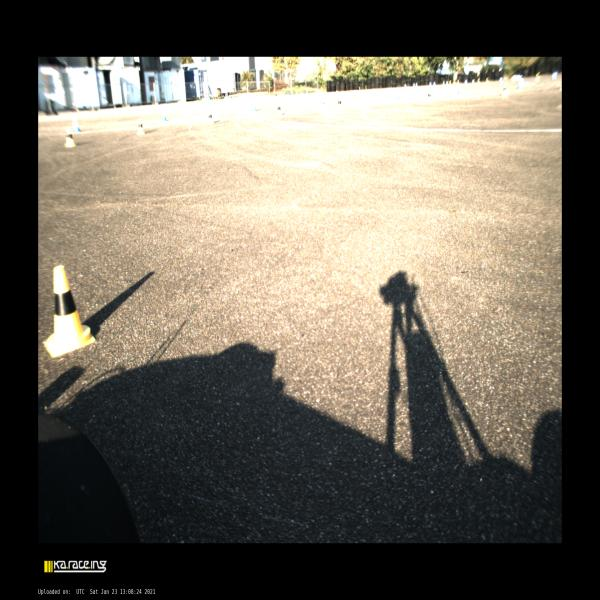blue_cone: (72, 118, 80, 132), (516, 78, 523, 88), (319, 94, 325, 104), (252, 102, 258, 111), (162, 110, 167, 120), (550, 72, 556, 80), (395, 90, 400, 99), (457, 86, 462, 94), (498, 77, 503, 84), (464, 78, 468, 86), (471, 79, 475, 84), (429, 81, 432, 87), (404, 83, 407, 88), (415, 82, 418, 87), (433, 81, 435, 87), (446, 80, 448, 85), (413, 82, 415, 87)
yellow_cone: (43, 264, 94, 358), (66, 126, 76, 147), (136, 118, 144, 135), (207, 111, 214, 125), (501, 82, 508, 96), (276, 102, 282, 115), (337, 97, 342, 108), (426, 91, 432, 100), (534, 72, 540, 81), (477, 77, 480, 84), (486, 77, 489, 82), (457, 79, 460, 84), (442, 81, 445, 84), (449, 80, 451, 84)
